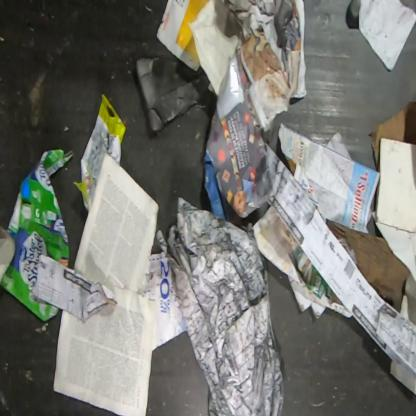cardboard: (0, 148, 75, 322), (371, 137, 415, 329), (326, 218, 411, 314), (31, 253, 119, 324), (135, 55, 211, 136), (370, 101, 415, 172), (389, 359, 416, 396)
soft_plastic: (72, 93, 126, 213)
